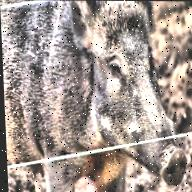boar: (4, 0, 192, 189)
